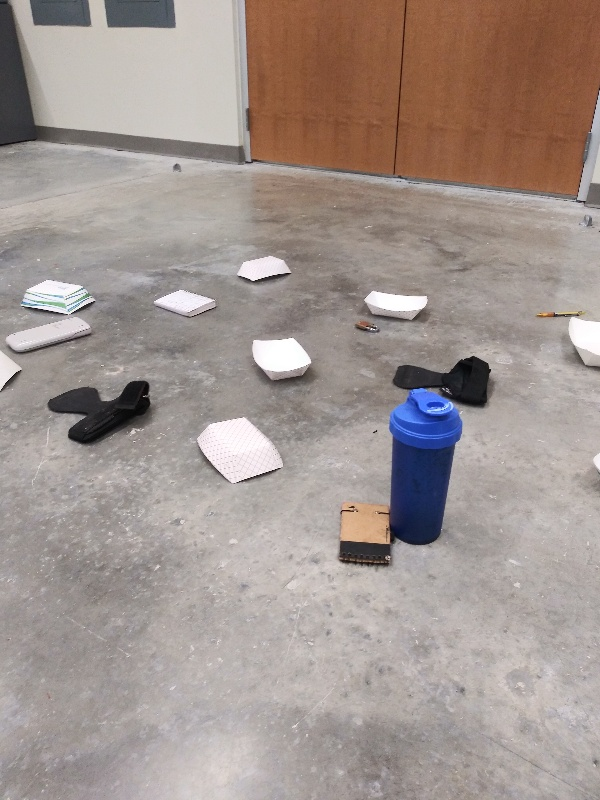plate: (190, 416, 286, 487), (243, 331, 315, 388), (14, 278, 100, 319), (361, 287, 432, 322), (558, 313, 600, 372), (232, 254, 297, 284), (1, 344, 27, 398), (587, 444, 600, 477)
